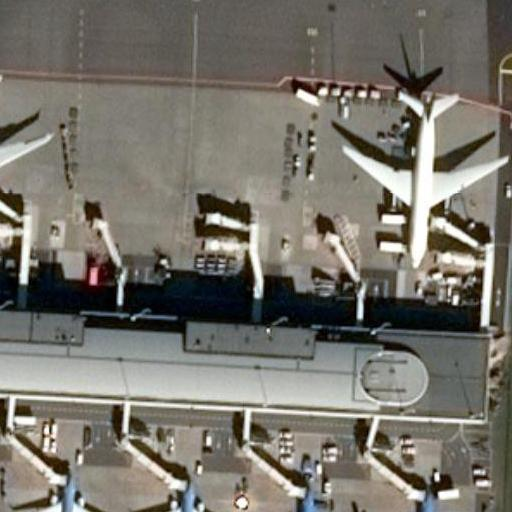Aircraft: (329, 80, 508, 269), (0, 57, 55, 238), (17, 470, 117, 512), (138, 474, 234, 512), (258, 483, 351, 512), (373, 489, 477, 512)
